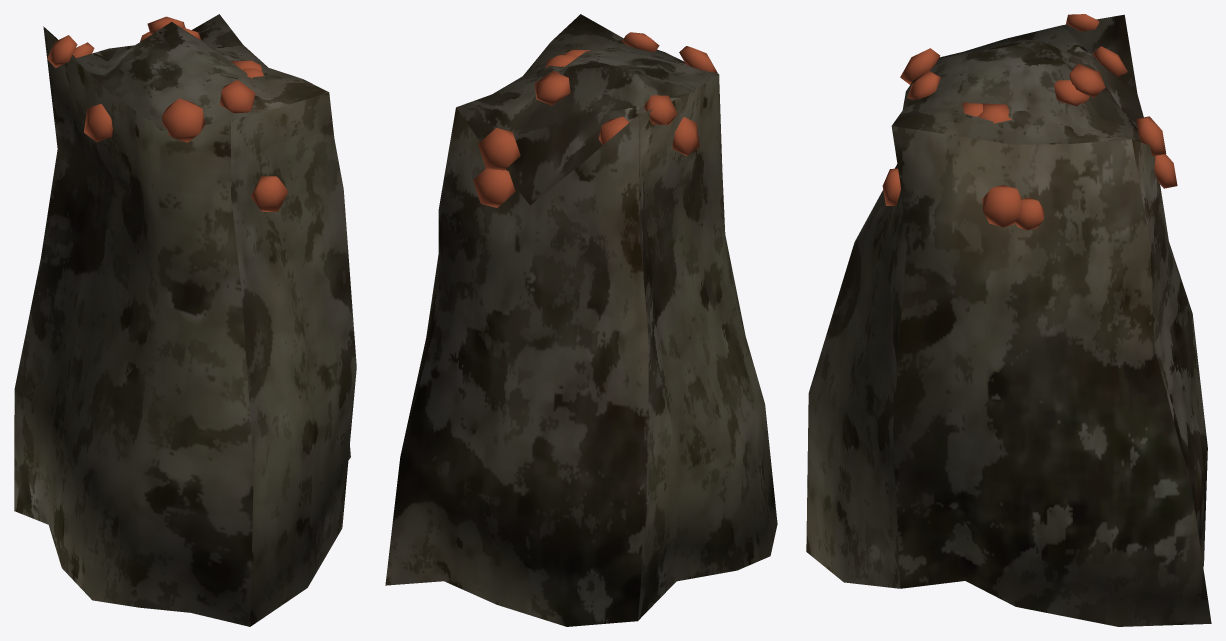
The model's file is Queen_Bone_2.fbx.
The picture shows the model from 3 angles, left to right: view 1: azimuth 30°, elevation 25°; view 2: azimuth 150°, elevation 25°; view 3: azimuth 270°, elevation 25°; orthographic projection. The views are drawn at different scales.
Visible parts, largest first — view 1: Queen_bone_2; view 2: Queen_bone_2; view 3: Queen_bone_2.
Boxes of the visible parts, x1=… form: Queen_bone_2: x1=14, y1=14, x2=356, y2=626; Queen_bone_2: x1=385, y1=14, x2=777, y2=626; Queen_bone_2: x1=806, y1=14, x2=1211, y2=626.
Bounding box in the file's own units: 98.1 × 162 × 114.
Materials: 2 (1 with a texture image).
